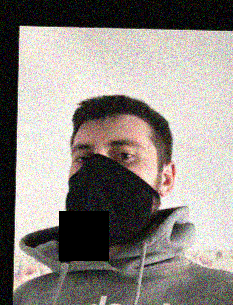with_mask: (65, 132, 154, 245)
